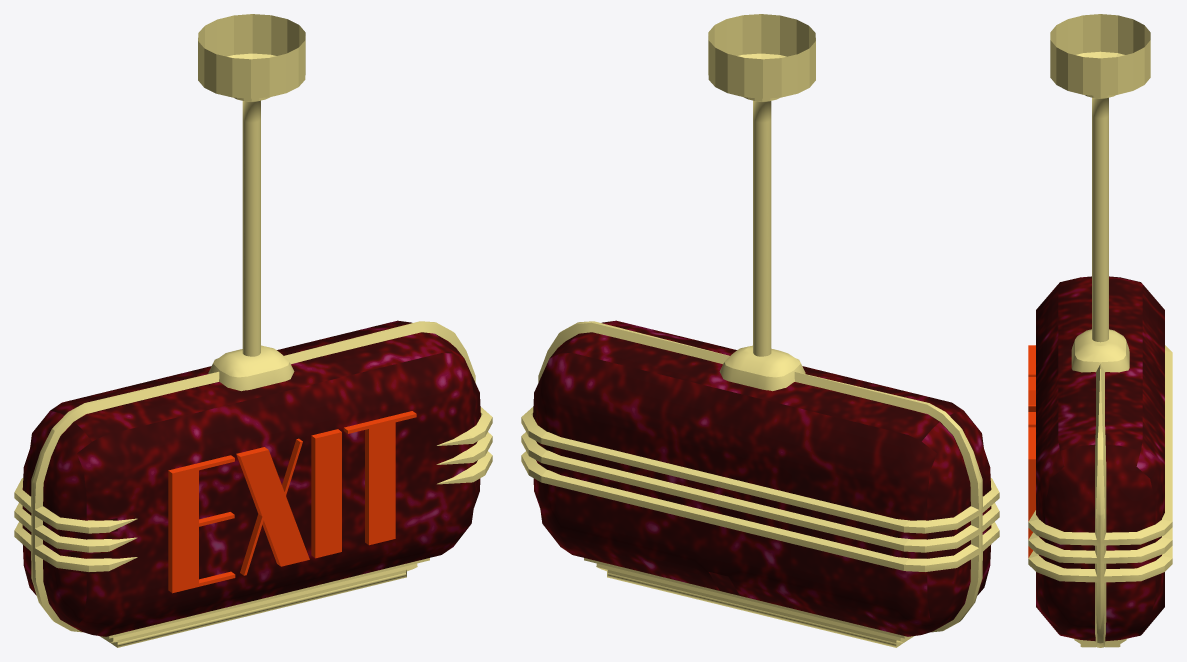
The model's file is EXIT_SIGN_v2.fbx.
3 renders of one model, left to right at view 1: azimuth 30°, elevation 25°; view 2: azimuth 150°, elevation 25°; view 3: azimuth 270°, elevation 25°, orthographic. The views are drawn at different scales.
Visible parts, largest first — view 1: red_marble1, gold, neon_typo, polySurface30, polySurface28; view 2: red_marble1, gold, polySurface30; view 3: red_marble1, gold, neon_typo, polySurface30.
Part boxes in pixels (x1,y1,x2,y2): red_marble1: [22, 320, 480, 636]; gold: [14, 14, 492, 632]; neon_typo: [168, 411, 416, 593]; polySurface30: [99, 558, 429, 647]; polySurface28: [43, 382, 218, 620]; red_marble1: [533, 320, 991, 636]; gold: [521, 14, 999, 632]; polySurface30: [584, 558, 914, 647]; red_marble1: [1036, 276, 1164, 641]; gold: [1028, 14, 1172, 647]; neon_typo: [1028, 345, 1035, 557]; polySurface30: [1071, 638, 1129, 647].
Bounding box in the file's own units: 53.31 × 65.55 × 15.77.
